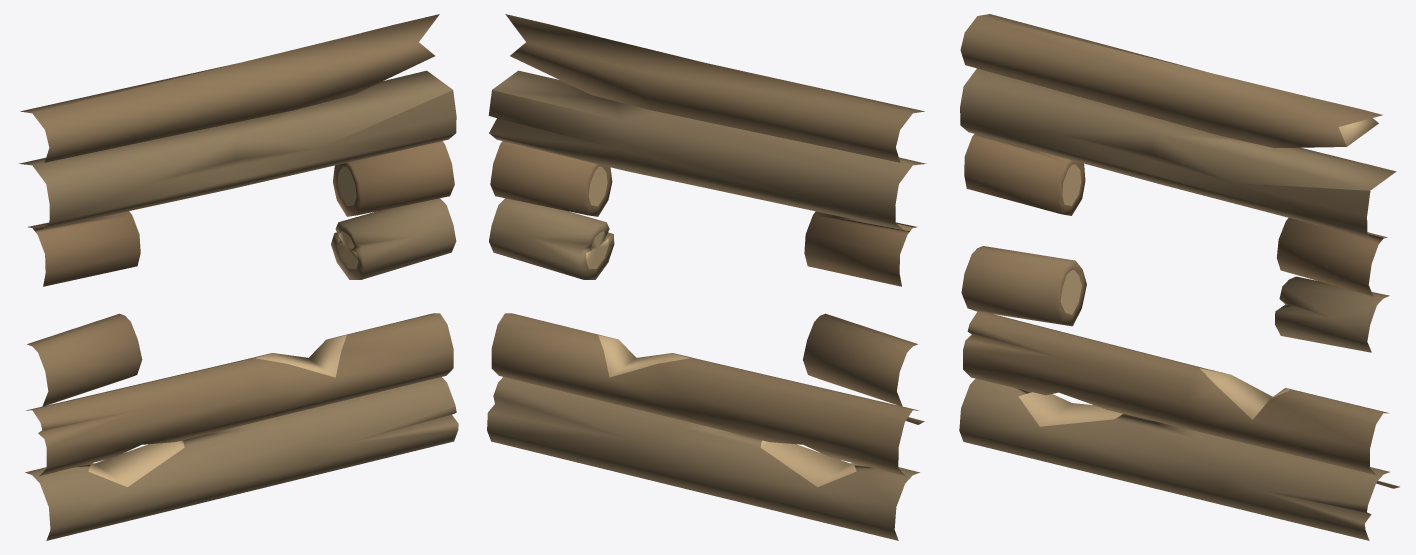
Rendered from rpgpp_av_wall_03_3x3_window_01b.gltf.
3 views of the same model, side by side, from view 1: azimuth 30°, elevation 25°; view 2: azimuth 150°, elevation 25°; view 3: azimuth 330°, elevation 25° (orthographic).
Parts seen in each view (by area): view 1: rpgpp_av_wall_03_3x3_window_01b; view 2: rpgpp_av_wall_03_3x3_window_01b; view 3: rpgpp_av_wall_03_3x3_window_01b.
Part boxes in pixels (<box>): rpgpp_av_wall_03_3x3_window_01b: <box>19,14,458,540</box>; rpgpp_av_wall_03_3x3_window_01b: <box>487,14,926,540</box>; rpgpp_av_wall_03_3x3_window_01b: <box>959,14,1399,540</box>.
Bounding box in the file's own units: 0.03 × 0.03 × 0.00471.
1 material, 1 textured.
